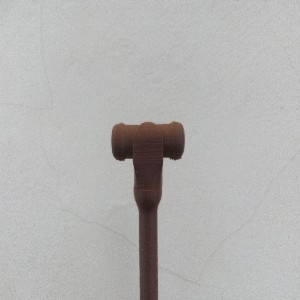palu: (111, 120, 186, 300)
